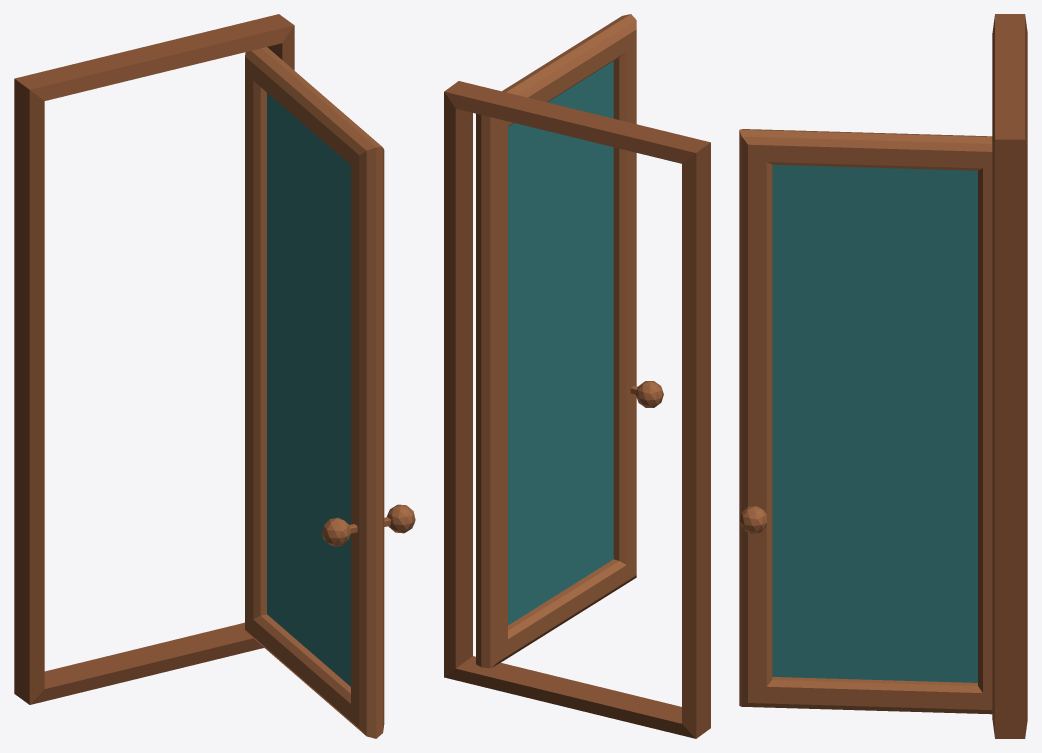
The model's file is Door A.fbx.
The picture shows the model from 3 angles, left to right: view 1: azimuth 30°, elevation 25°; view 2: azimuth 150°, elevation 25°; view 3: azimuth 270°, elevation 25°; orthographic projection. The views are drawn at different scales.
Parts seen in each view (by area): view 1: Door A, Door A.001; view 2: Door A, Door A.001; view 3: Door A, Door A.001.
Part boxes in pixels (x1,y1,x2,y2): Door A: [245, 47, 415, 738]; Door A.001: [14, 14, 294, 704]; Door A: [476, 14, 663, 668]; Door A.001: [444, 81, 710, 738]; Door A: [739, 129, 992, 714]; Door A.001: [992, 14, 1027, 738].
Size of the model in its own units: 462 by 1026 by 448.
